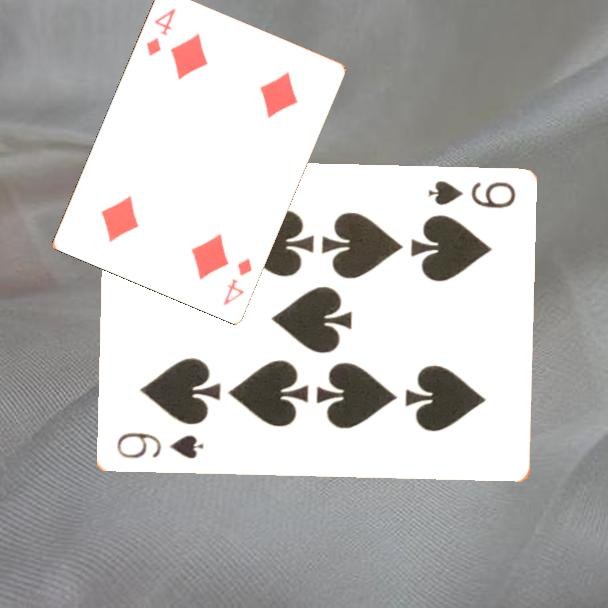d04: (142, 4, 179, 59), (219, 254, 255, 308)
s09: (424, 178, 518, 211), (113, 429, 206, 462)
